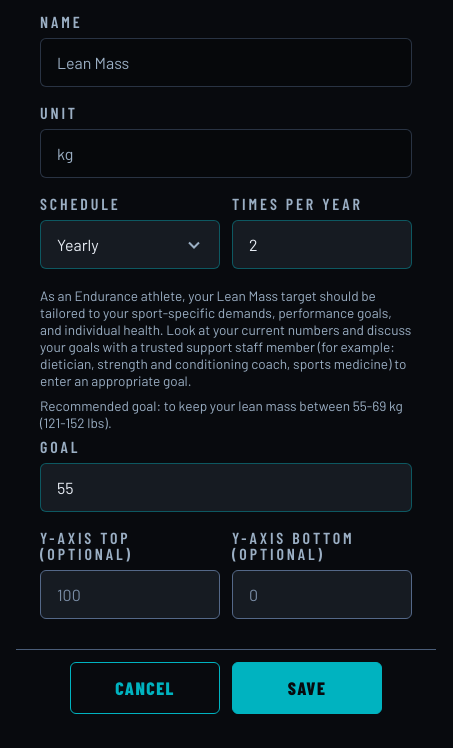
Scenario: MetricOverrideForm › rejects one-of-two y-axis fields blank as ambiguous
Replace the text in the number field labelled "Goal" with "70" at (226, 488), box [40,463,412,512]
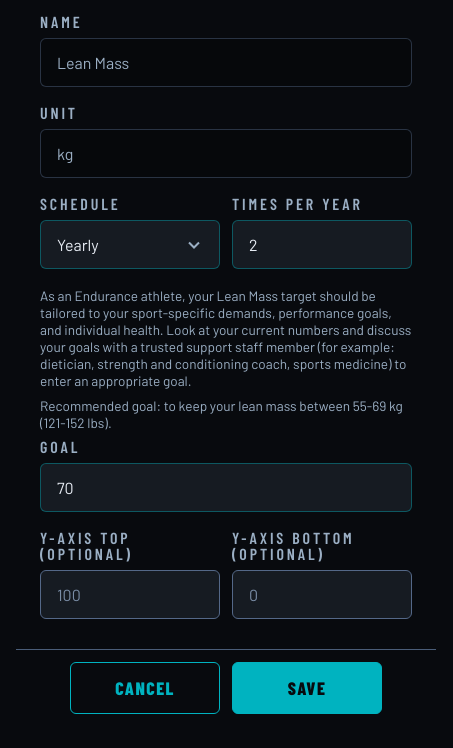
Type "120" into the number field labelled "Y-axis top (optional)" at (130, 594), box [40,570,220,619]
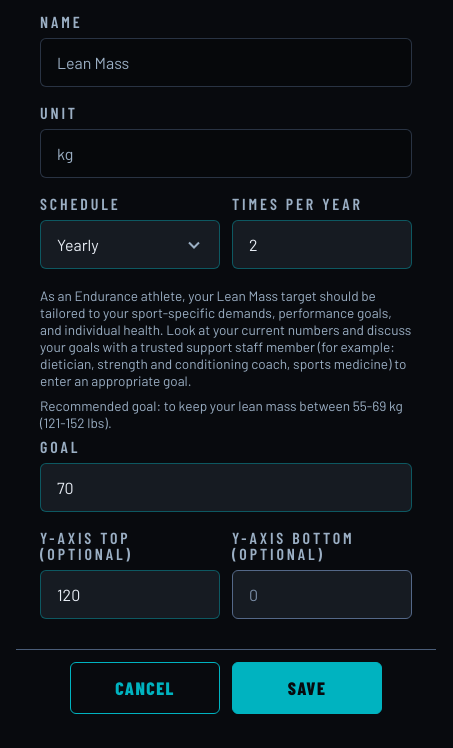
# bottom left blank
Click the button "Save" at (307, 688), box [232,662,382,714]
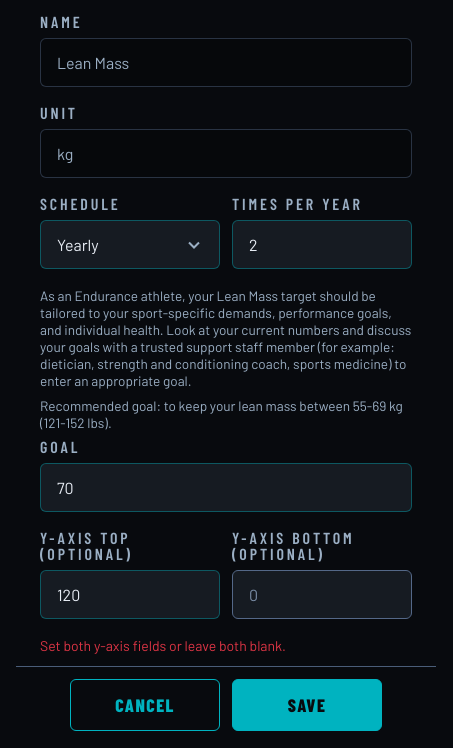
Now the text "Set both y-axis fields or leave both blank." is shown, box [40,637,286,654]
